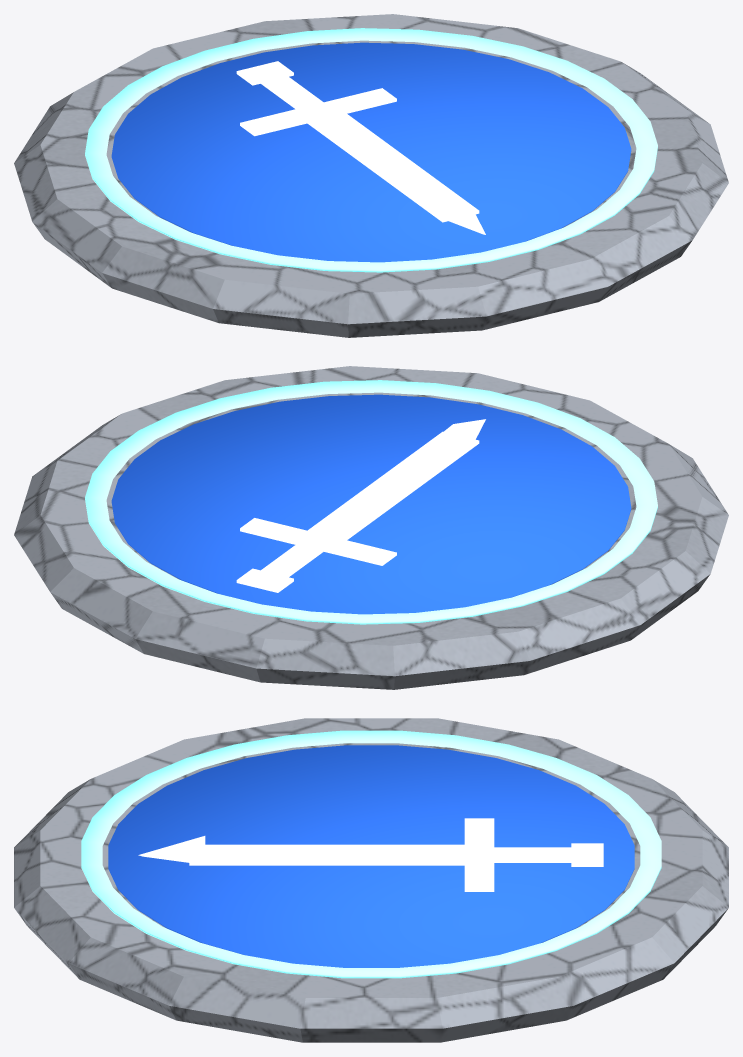
File: HeroPad.glb
3 renders of one model, top to bottom at view 1: azimuth 30°, elevation 25°; view 2: azimuth 150°, elevation 25°; view 3: azimuth 270°, elevation 25°, orthographic.
Visible parts, largest first — view 1: PadDisc, HeroPad, PadRune, PadSword; view 2: PadDisc, HeroPad, PadRune, PadSword; view 3: PadDisc, HeroPad, PadRune, PadSword.
Part boxes in pixels (x1,y1,x2,y2): PadDisc: (111, 42, 631, 262); HeroPad: (14, 14, 728, 337); PadRune: (85, 28, 657, 272); PadSword: (236, 61, 485, 234); PadDisc: (111, 394, 631, 614); HeroPad: (14, 366, 728, 689); PadRune: (85, 380, 657, 624); PadSword: (236, 419, 485, 592); PadDisc: (108, 745, 634, 967); HeroPad: (14, 718, 728, 1042); PadRune: (81, 730, 661, 978); PadSword: (138, 818, 603, 891).
Bounding box in the file's own units: 2.65 × 0.252 × 2.65.
Materials: 4 (1 with a texture image).
